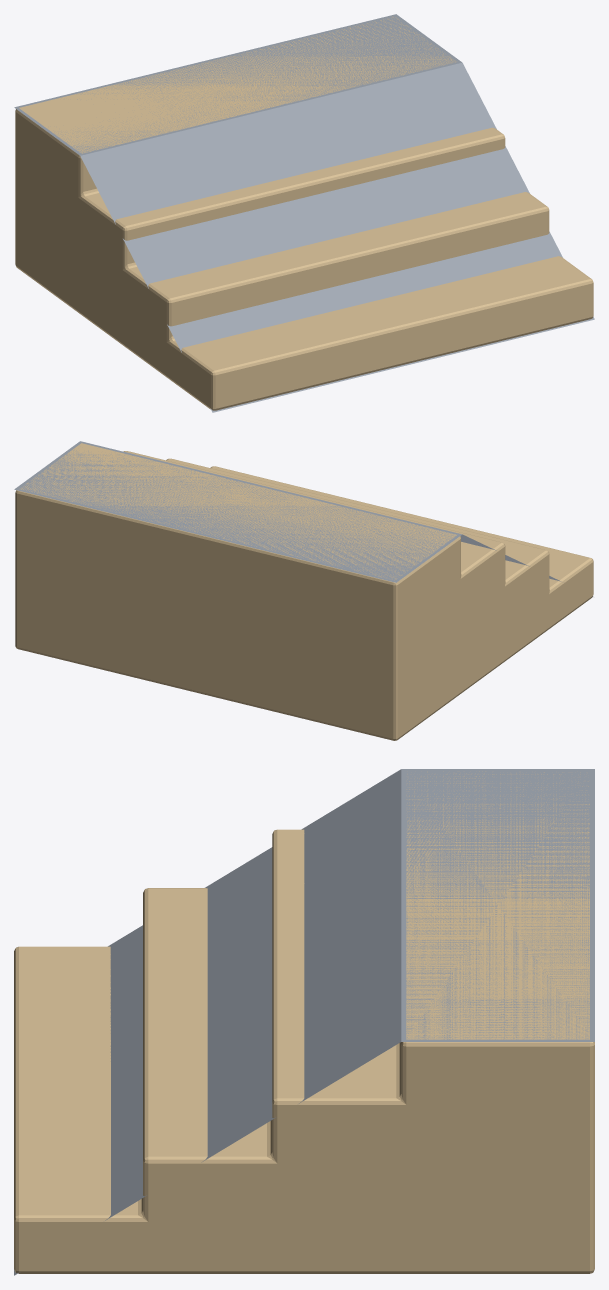
The model's file is degraus_entrada_h60.glb.
3 views of the same model, one above another, from view 1: azimuth 30°, elevation 25°; view 2: azimuth 150°, elevation 25°; view 3: azimuth 270°, elevation 25° (orthographic). The views are drawn at different scales.
Parts seen in each view (by area): view 1: degraus_entrada_h60, colisao_malha; view 2: degraus_entrada_h60, colisao_malha; view 3: degraus_entrada_h60, colisao_malha.
Part boxes in pixels (left/top/right/bottom): degraus_entrada_h60: left=15, top=16, right=593, bottom=410; colisao_malha: left=14, top=14, right=594, bottom=412; degraus_entrada_h60: left=15, top=443, right=593, bottom=740; colisao_malha: left=14, top=441, right=593, bottom=596; degraus_entrada_h60: left=14, top=771, right=594, bottom=1273; colisao_malha: left=14, top=769, right=594, bottom=1275.
Size of the model in its own units: 1.5 by 0.6 by 1.35.
Materials: 1 (1 with a texture image).
